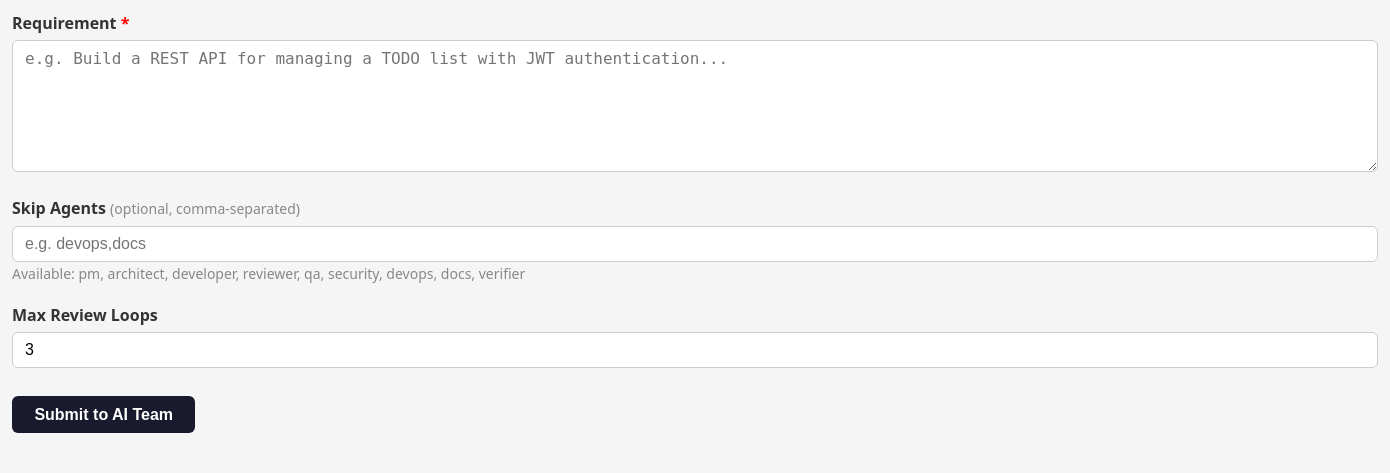
Test: PipelineForm › shows error when requirement is too short
In the text box with test id "requirement-input": (695, 106) x1=12 y1=40 x2=1378 y2=172, type "short"
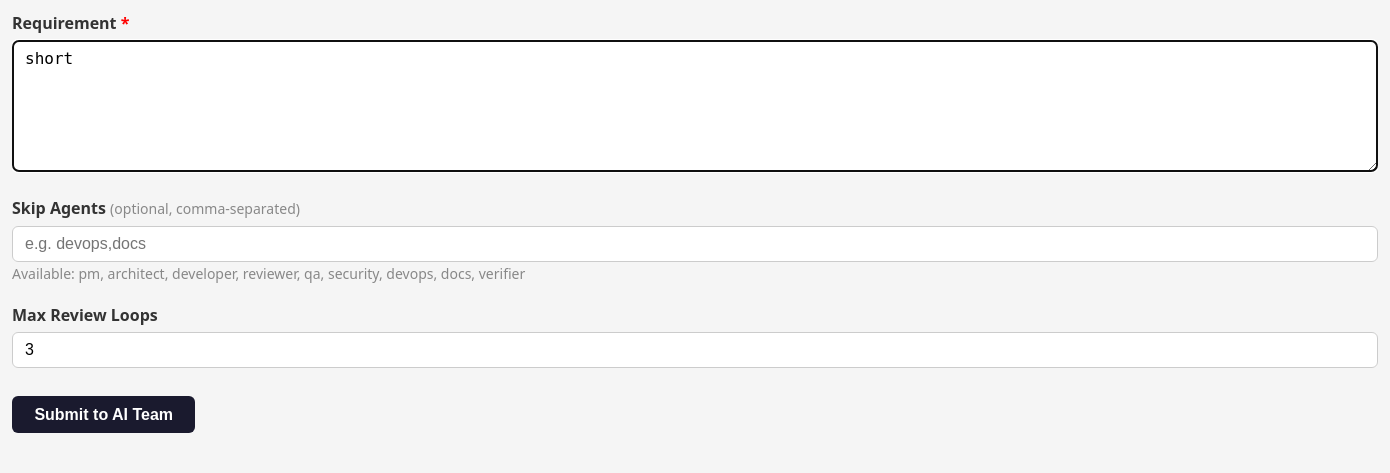
Submit the form with test id "pipeline-form"
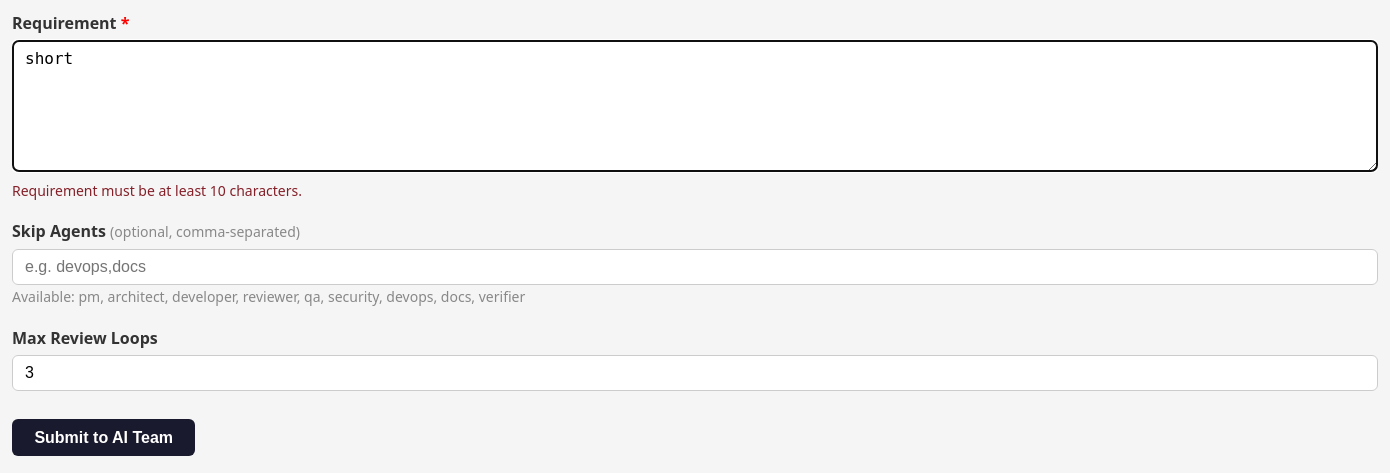
Expected: the text with test id "validation-error" shows "at least 10 characters", x1=12 y1=181 x2=302 y2=200
